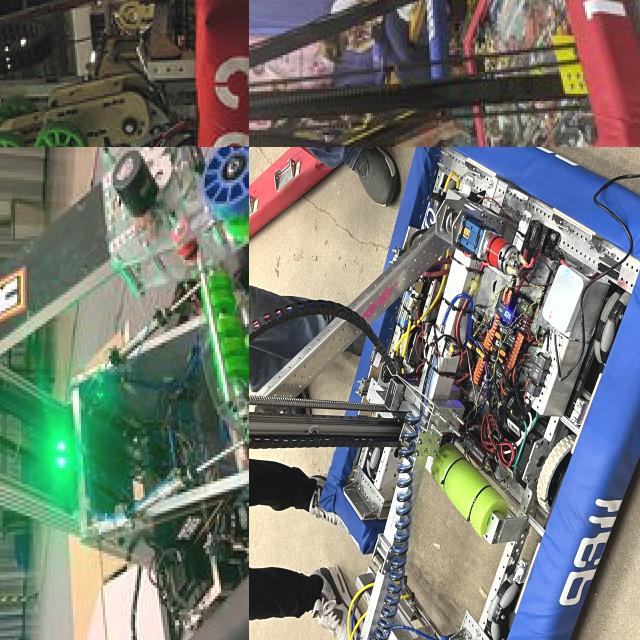FRC-Robots: (249, 147, 640, 640), (0, 147, 249, 640), (249, 0, 640, 147), (0, 0, 249, 147)
